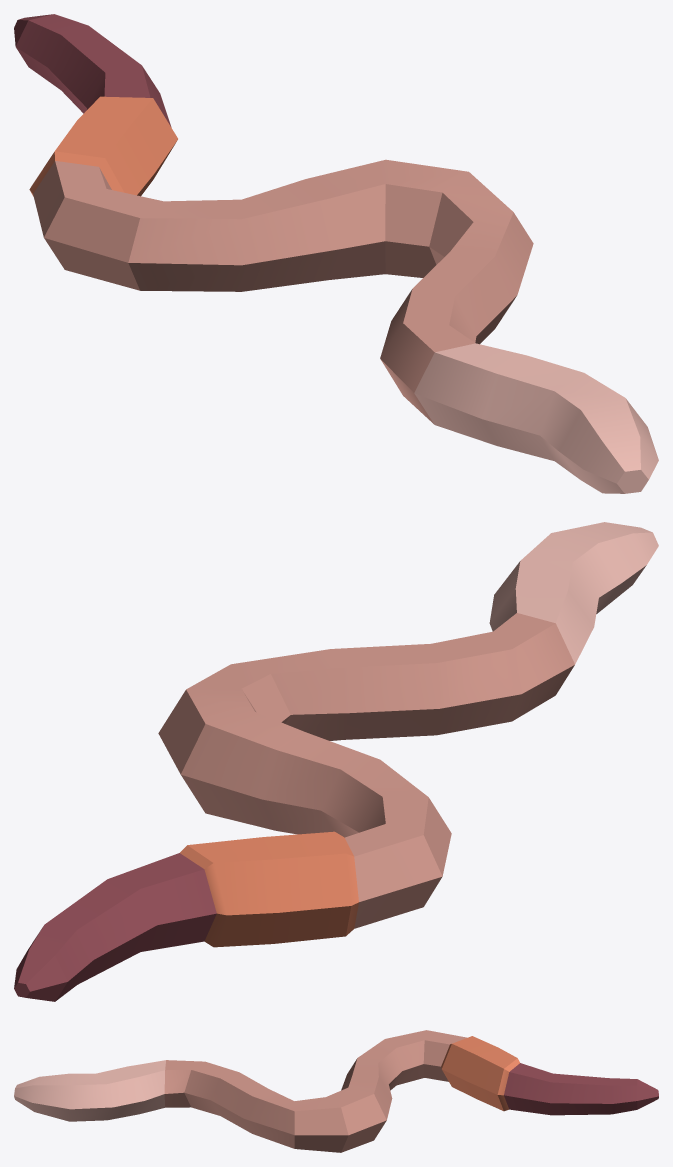
File: Mesh_Earthworm.obj
3 renders of one model, top to bottom at view 1: azimuth 30°, elevation 25°; view 2: azimuth 150°, elevation 25°; view 3: azimuth 270°, elevation 25°, orthographic. The views are drawn at different scales.
Visible parts, largest first — view 1: Geo_Earthworm; view 2: Geo_Earthworm; view 3: Geo_Earthworm.
Boxes of the visible parts, bbox=[...] form: Geo_Earthworm: bbox=[14, 14, 658, 493]; Geo_Earthworm: bbox=[14, 522, 658, 1001]; Geo_Earthworm: bbox=[14, 1030, 658, 1152].
Size of the model in its own units: 17.65 by 4.2 by 52.55.
1 material, 1 textured.
